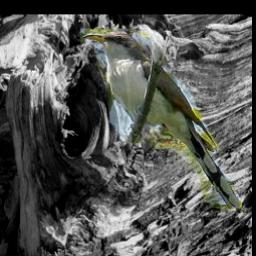Cuckoo: (81, 30, 243, 212)
